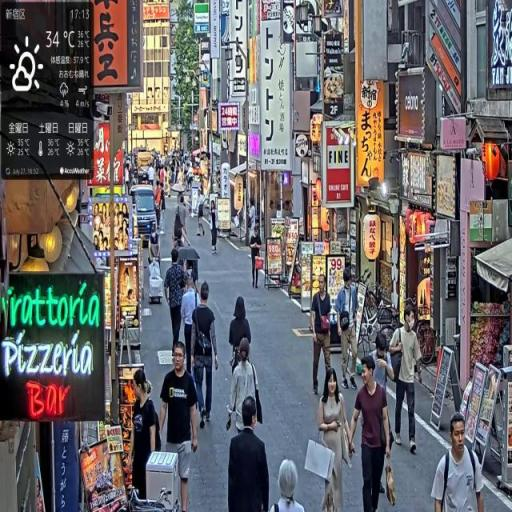person: (347, 354, 398, 512), (158, 341, 200, 512), (432, 412, 488, 512), (318, 369, 356, 512), (389, 306, 425, 455), (226, 395, 271, 512), (192, 281, 221, 431), (130, 366, 161, 503), (229, 340, 263, 435), (335, 269, 361, 392), (311, 273, 335, 399), (164, 248, 188, 359), (180, 277, 200, 380), (228, 297, 253, 375), (276, 459, 308, 512), (209, 201, 220, 257), (197, 190, 207, 239)
